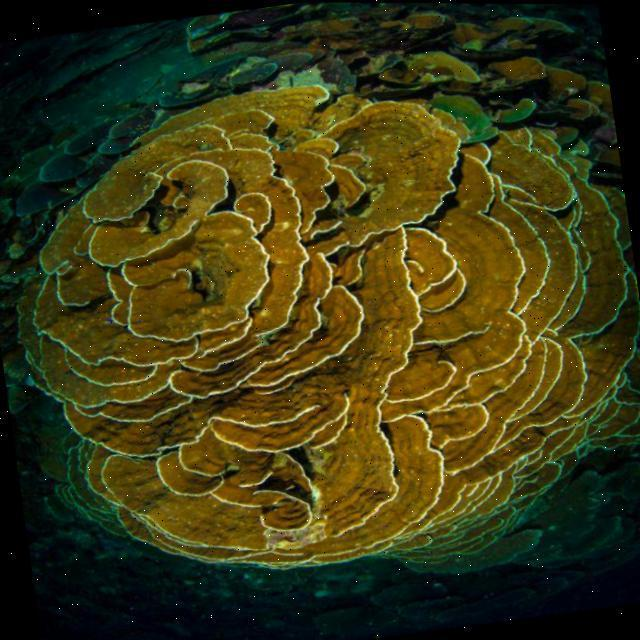Healthy Coral: (44, 95, 640, 570)
